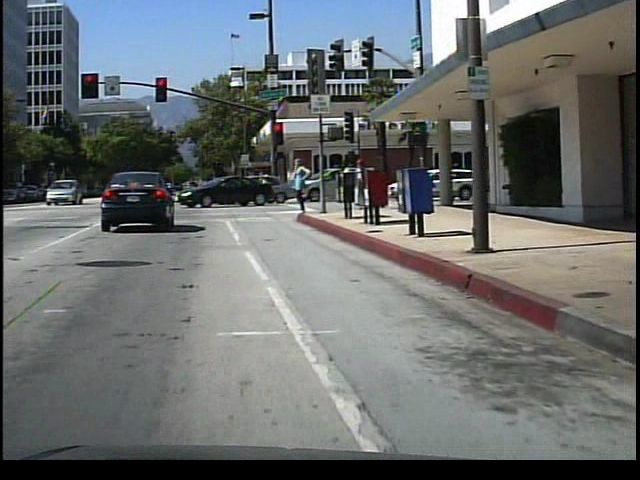person: (291, 152, 318, 218), (340, 155, 360, 210), (355, 154, 373, 210)
